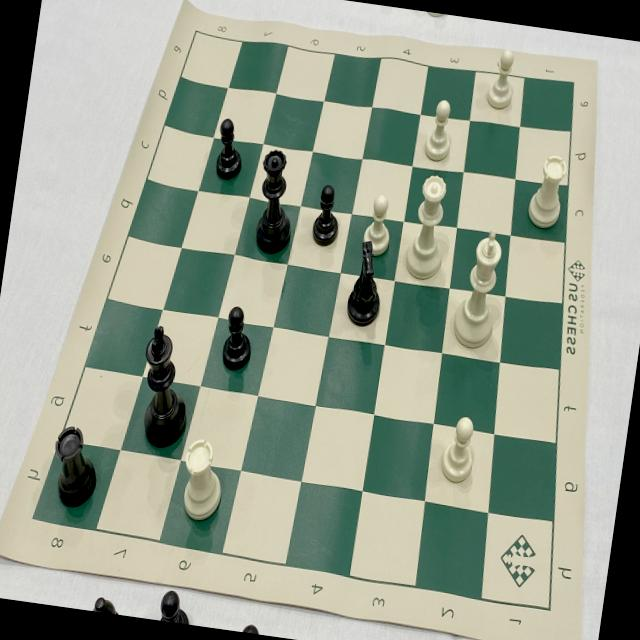black-king: (134, 321, 199, 452)
black-knight: (340, 238, 392, 332)
black-pawn: (217, 302, 259, 371), (211, 114, 251, 184), (309, 182, 346, 250)
black-queen: (248, 142, 304, 257)
black-rook: (46, 420, 102, 512)
white-king: (450, 224, 510, 354)
white-pawn: (437, 410, 484, 490), (420, 96, 461, 168), (482, 46, 520, 114), (360, 192, 398, 258)
white-queen: (398, 170, 456, 283)
white-rook: (176, 434, 232, 526), (523, 148, 574, 234)
